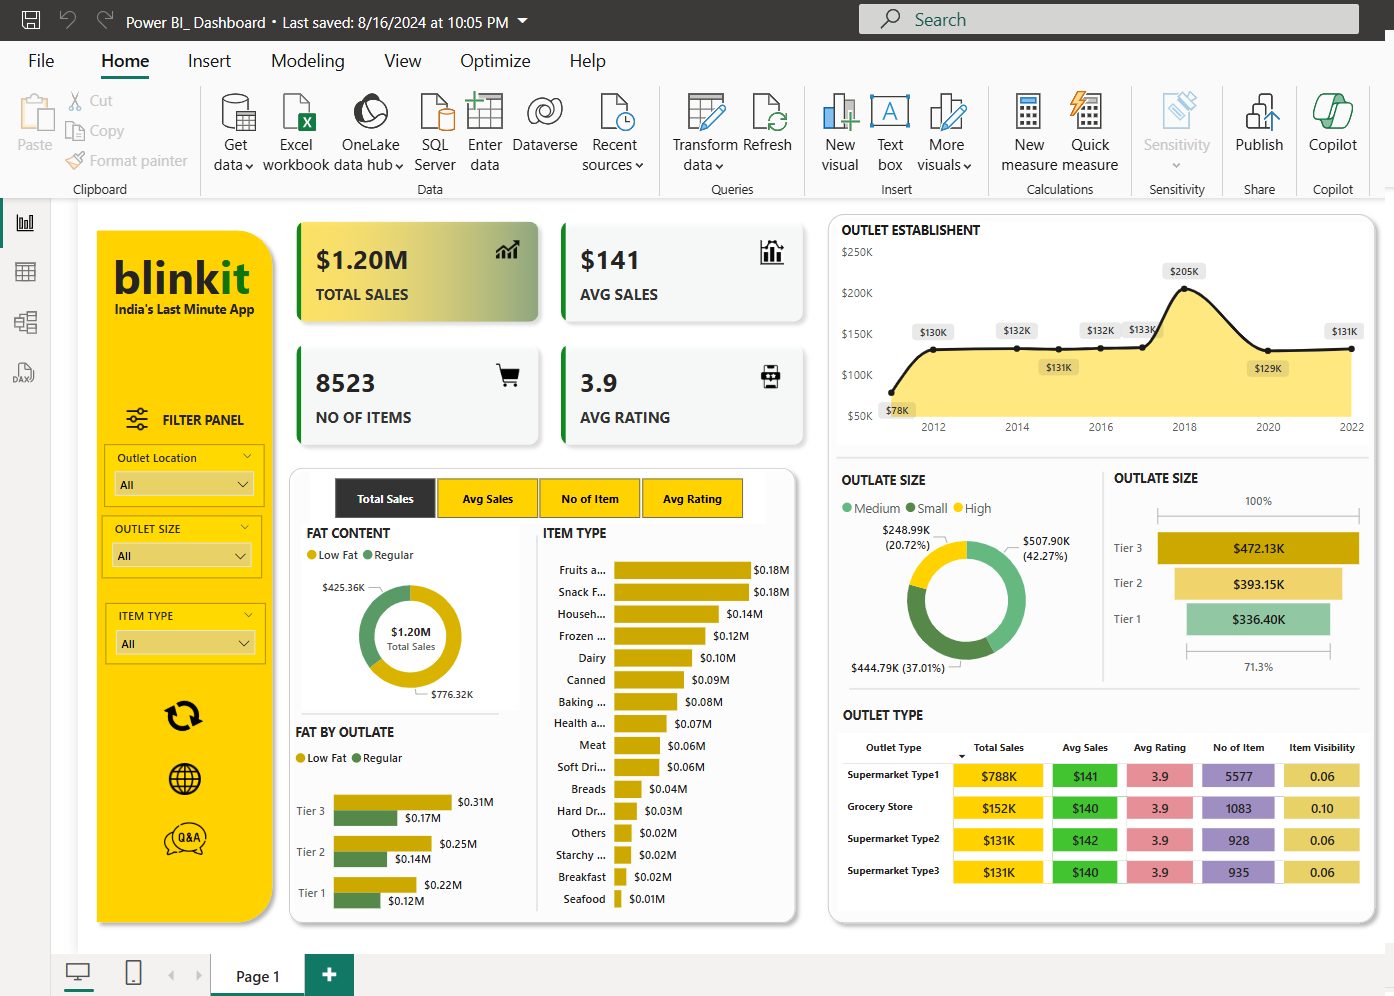

This screenshot's page, from the dashboard's own definition file:
{"tool":"powerbi","page":{"name":"Page 1","canvas":[1400,800],"ordinal":0},"visuals":[{"type":"shape","box":[10.5,25.5,204.1,750.4],"z":0},{"type":"textbox","box":[31.5,45,165.1,78],"z":1000},{"type":"textbox","box":[22.5,103.6,180.1,39],"z":2000},{"type":"cardVisual","fields":{"Data":["BlinkIT Grocery Data.Total Sales","BlinkIT Grocery Data.Average Sales","BlinkIT Grocery Data.No of Item","BlinkIT Grocery Data.Average Rating"]},"box":[214.6,7.5,570.3,270.2],"z":3000},{"type":"shape","box":[214.6,276.2,553.8,499.8],"z":4000},{"type":"slicer","fields":{"Values":["Matrix.Matrix"]},"box":[246,289.7,481.5,55.6],"z":5000},{"type":"slicer","title":"FAT CONTENT","fields":{"Values":["BlinkIT Grocery Data.Outlet Location Type"]},"box":[27.8,260.6,169.3,66.1],"z":6000},{"type":"clusteredBarChart","title":"FAT BY OUTLATE","fields":{"Y":["BlinkIT Grocery Data.Total Sales"],"Category":["BlinkIT Grocery Data.Outlet Location Type"],"Series":["BlinkIT Grocery Data.Item Fat Content"]},"box":[225.1,555.3,220.6,220.6],"z":7000},{"type":"shape","box":[237.1,526.8,208.6,39],"z":8000},{"type":"shape","box":[472.8,357.2,27,397.7],"z":9000},{"type":"barChart","title":"ITEM TYPE","fields":{"Y":["BlinkIT Grocery Data.Total Sales"],"Category":["BlinkIT Grocery Data.Item Type"]},"box":[486.3,345.2,271.7,420.2],"z":10000},{"type":"shape","box":[785,7.5,597.3,768.4],"z":11000},{"type":"lineChart","title":"OUTLET ESTABLISHENT","fields":{"Y":["BlinkIT Grocery Data.Total Sales"],"Category":["BlinkIT Grocery Data.Outlet Establishment Year"]},"box":[803,25.5,563,235.6],"z":12000},{"type":"shape","box":[803,261.2,562.8,28.5],"z":13000},{"type":"donutChart","title":"OUTLATE SIZE","fields":{"Category":["BlinkIT Grocery Data.Outlet Size"],"Y":["BlinkIT Grocery Data.Total Sales"]},"box":[803,289.7,275,225],"z":14000},{"type":"funnel","title":"OUTLATE SIZE","fields":{"Category":["BlinkIT Grocery Data.Outlet Location Type"],"Y":["BlinkIT Grocery Data.Total Sales"]},"box":[1091.1,286.7,274.7,225.1],"z":15000},{"type":"shape","box":[1077.6,289.7,13.5,222.1],"z":16000},{"type":"shape","box":[816.5,511.8,540.3,15],"z":17000},{"type":"pivotTable","fields":{"Rows":["BlinkIT Grocery Data.Outlet Type"],"Values":["BlinkIT Grocery Data.Total Sales","BlinkIT Grocery Data.Average Sales","BlinkIT Grocery Data.Average Rating","BlinkIT Grocery Data.No of Item","Avg(BlinkIT Grocery Data.Item Visibility)"]},"box":[804.5,565.8,562.8,189.1],"z":18000},{"type":"textbox","box":[804.5,532.8,123.1,33],"z":19000},{"type":"slicer","title":"FAT CONTENT","fields":{"Values":["BlinkIT Grocery Data.Outlet Size"]},"box":[25.1,336,169.3,66.1],"z":20000},{"type":"slicer","title":"FAT CONTENT","fields":{"Values":["BlinkIT Grocery Data.Item Type"]},"box":[29.1,428.6,169.3,64.8],"z":21000},{"type":"textbox","box":[62.2,220.9,140.2,33.1],"z":22000},{"type":"image","box":[39.7,214.3,45,39.7],"z":23000},{"type":"image","box":[59.5,496,104.5,104.5],"z":24000},{"type":"donutChart","title":"FAT CONTENT","fields":{"Y":["BlinkIT Grocery Data.Total Sales"],"Category":["BlinkIT Grocery Data.Item Fat Content"]},"box":[236.8,345.2,230.2,197.1],"z":25000},{"type":"image","box":[84.7,591.3,56.9,47.6],"z":26000},{"type":"image","box":[84.7,650.8,58.2,54.2],"z":27000},{"type":"cardVisual","fields":{"Data":["BlinkIT Grocery Data.Total Sales"]},"box":[295,425.9,115.1,67.5],"z":27001}]}

Visuals, with their boxes on the page's 1400x800 design canvas (x1, y1, x2, y2). These are canvas units, not pixel positions in the 1394x996 screenshot, which may show the page scaled, cropped or inside an application window:
shape: (left=10, top=26, right=215, bottom=776)
textbox: (left=32, top=45, right=197, bottom=123)
textbox: (left=22, top=104, right=203, bottom=143)
cardVisual - BlinkIT Grocery Data.Total Sales x BlinkIT Grocery Data.Average Sales: (left=215, top=8, right=785, bottom=278)
shape: (left=215, top=276, right=768, bottom=776)
slicer - Matrix.Matrix: (left=246, top=290, right=728, bottom=345)
"FAT CONTENT" slicer: (left=28, top=261, right=197, bottom=327)
"FAT BY OUTLATE" clusteredBarChart: (left=225, top=555, right=446, bottom=776)
shape: (left=237, top=527, right=446, bottom=566)
shape: (left=473, top=357, right=500, bottom=755)
"ITEM TYPE" barChart: (left=486, top=345, right=758, bottom=765)
shape: (left=785, top=8, right=1382, bottom=776)
"OUTLET ESTABLISHENT" lineChart: (left=803, top=26, right=1366, bottom=261)
shape: (left=803, top=261, right=1366, bottom=290)
"OUTLATE SIZE" donutChart: (left=803, top=290, right=1078, bottom=515)
"OUTLATE SIZE" funnel: (left=1091, top=287, right=1366, bottom=512)
shape: (left=1078, top=290, right=1091, bottom=512)
shape: (left=816, top=512, right=1357, bottom=527)
pivotTable - BlinkIT Grocery Data.Outlet Type x BlinkIT Grocery Data.Total Sales: (left=804, top=566, right=1367, bottom=755)
textbox: (left=804, top=533, right=928, bottom=566)
"FAT CONTENT" slicer: (left=25, top=336, right=194, bottom=402)
"FAT CONTENT" slicer: (left=29, top=429, right=198, bottom=493)
textbox: (left=62, top=221, right=202, bottom=254)
image: (left=40, top=214, right=85, bottom=254)
image: (left=60, top=496, right=164, bottom=600)
"FAT CONTENT" donutChart: (left=237, top=345, right=467, bottom=542)
image: (left=85, top=591, right=142, bottom=639)
image: (left=85, top=651, right=143, bottom=705)
cardVisual - BlinkIT Grocery Data.Total Sales: (left=295, top=426, right=410, bottom=493)
